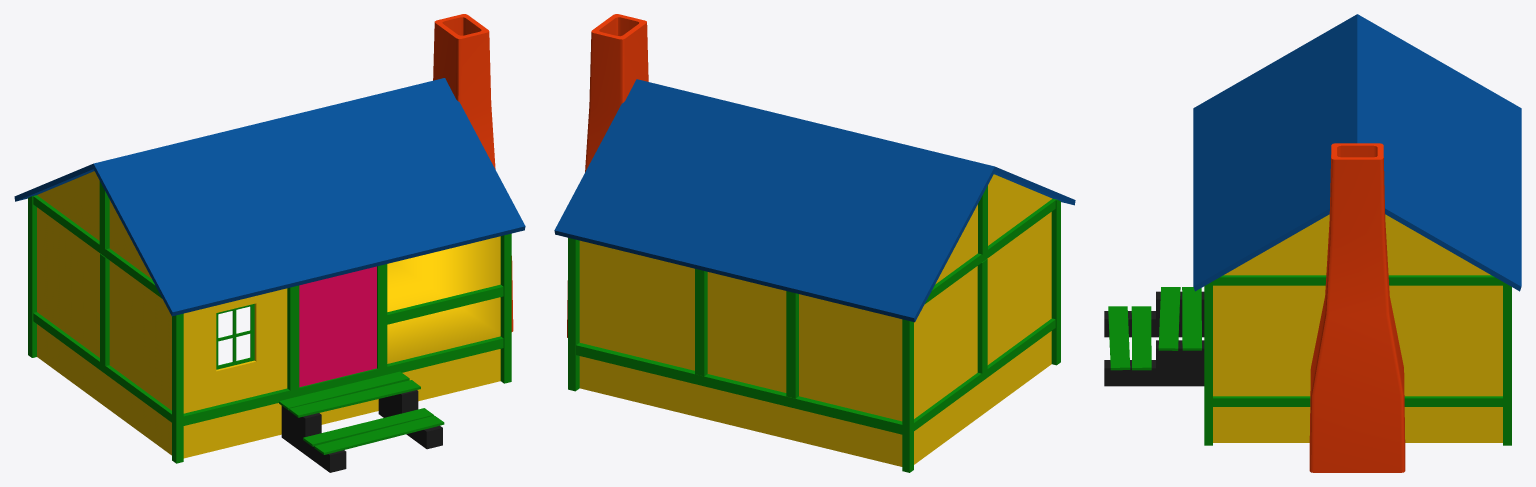
The picture shows the model from 3 angles, left to right: view 1: azimuth 30°, elevation 25°; view 2: azimuth 150°, elevation 25°; view 3: azimuth 270°, elevation 25°; orthographic projection. The views are drawn at different scales.
Visible parts, largest first — view 1: polySurface8 base_casa telhado, paredes polySurface8 base_casa, janela, base_casa polySurface9, pCube30, pCube55; view 2: polySurface8 base_casa telhado, paredes polySurface8 base_casa, janela, pCube30; view 3: polySurface8 base_casa telhado, paredes polySurface8 base_casa, pCube30, janela, pCube55.
Part boxes in pixels (x1,y1,x2,y2): polySurface8 base_casa telhado: (14,78,525,316); paredes polySurface8 base_casa: (37,171,500,458); janela: (28,181,511,463); base_casa polySurface9: (299,266,376,387); pCube30: (433,14,513,331); pCube55: (281,390,442,472); polySurface8 base_casa telhado: (554,79,1075,322); paredes polySurface8 base_casa: (579,174,1052,466); janela: (568,185,1060,472); pCube30: (567,14,648,337); polySurface8 base_casa telhado: (1193,14,1521,291); paredes polySurface8 base_casa: (1213,214,1502,442); pCube30: (1309,143,1405,472); janela: (1108,275,1511,445); pCube55: (1104,291,1204,386).
Size of the model in its own units: 24.49 by 17.36 by 21.42.
